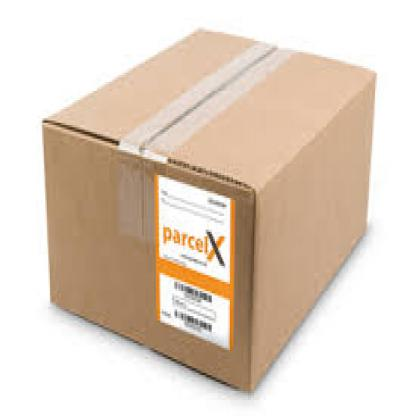paquete: (26, 16, 401, 402)
